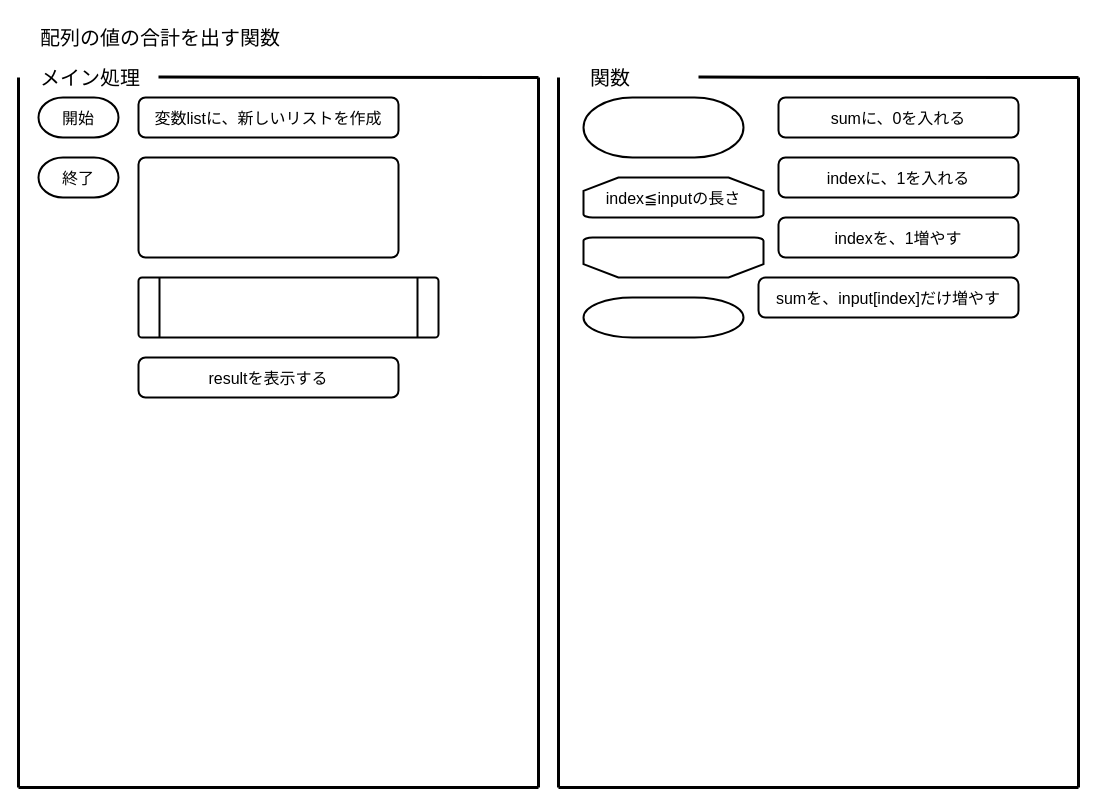
Some shapes in this 1098 by 807 pixel diagram are drawn without their labels. The centre of each missing label's shape, as x and y in pixels:
listの末尾に、10を挿入する listの末尾に、29を挿入する listの末尾に、12を挿入する listの末尾に、40を挿入する: the point at 268,207
sumを返す: the point at 663,317
一番大きい数 引数: input: the point at 663,127
関数「合計(引数:list)」を実行し、 変数resultに、結果を入れる: the point at 288,307
